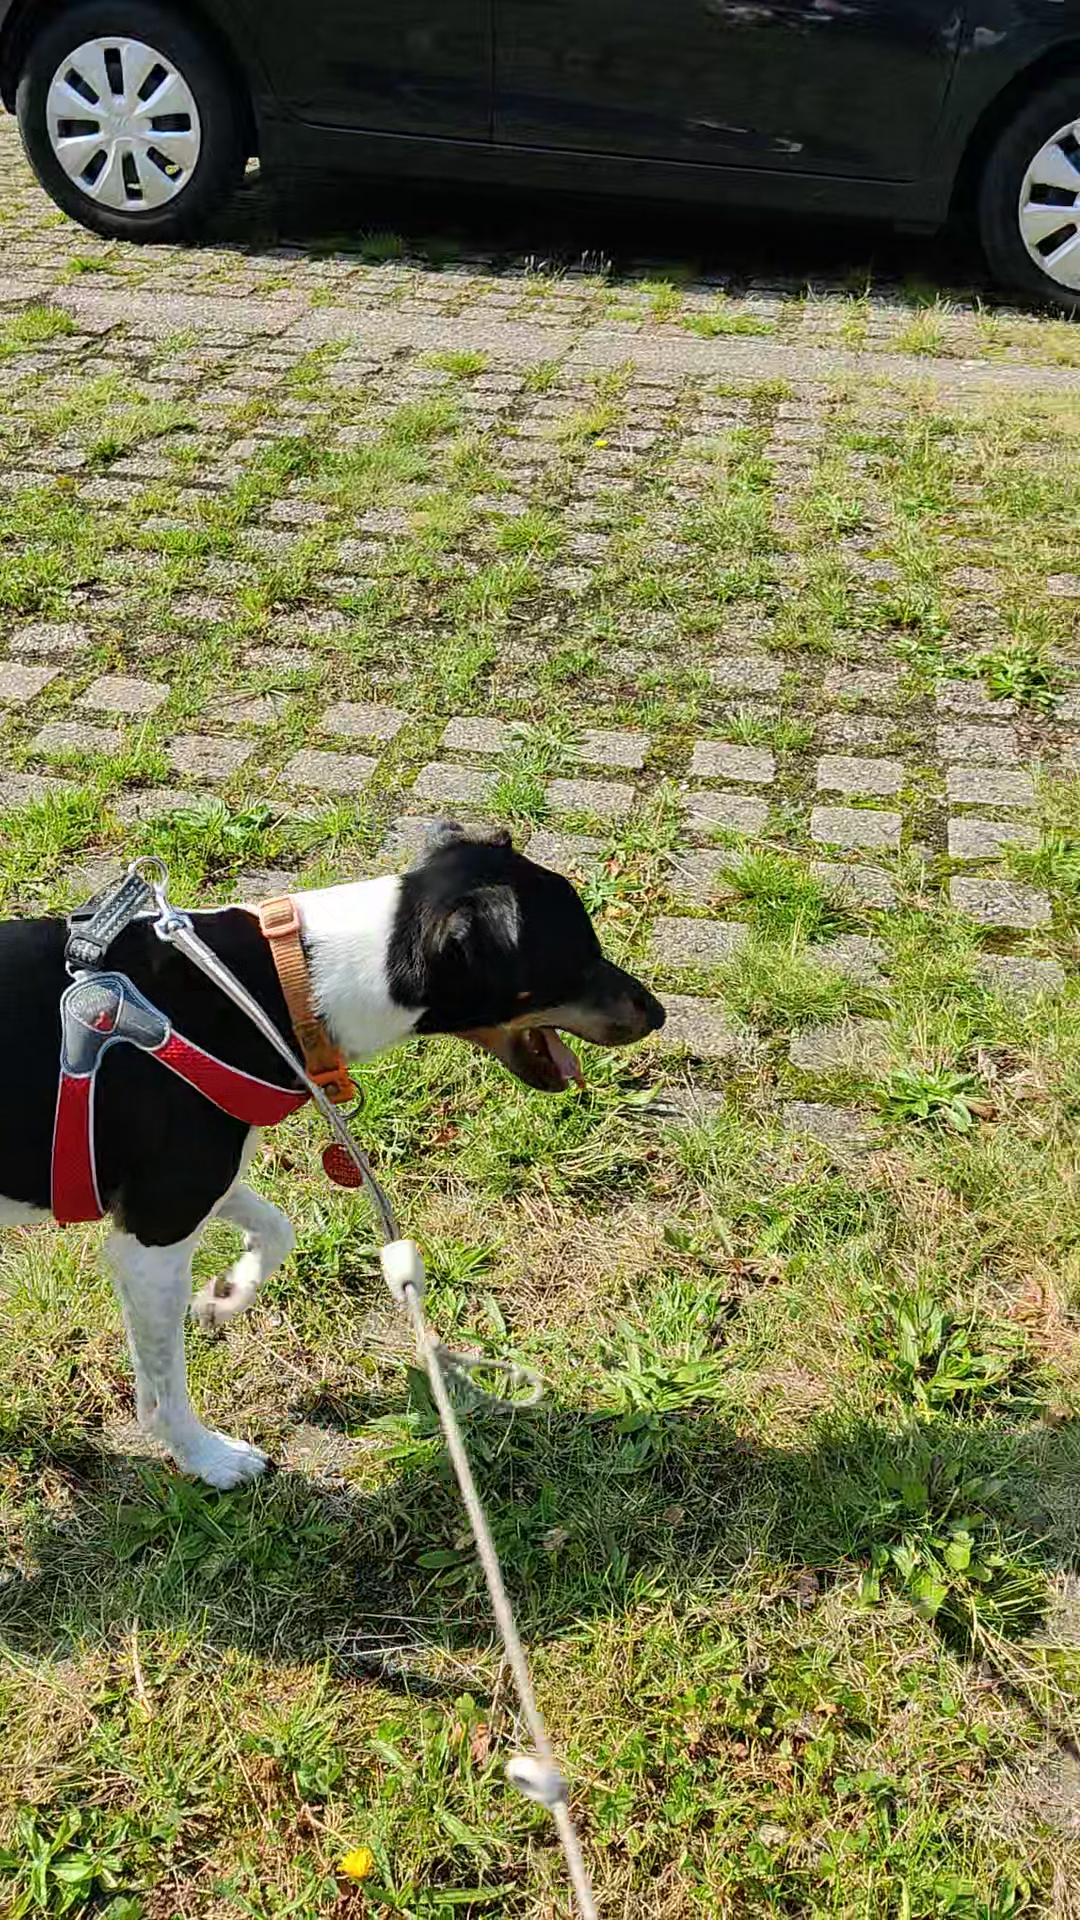Dog: (0, 814, 669, 1495)
